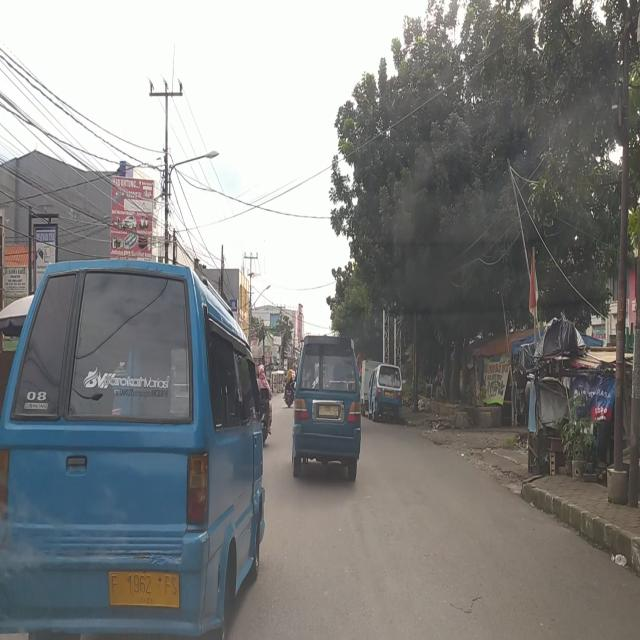Sewer Cover: (448, 590, 488, 615)
